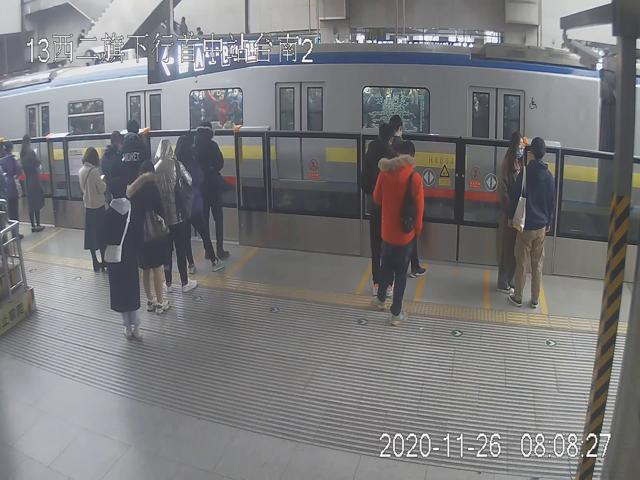person: (373, 140, 423, 321), (513, 138, 556, 313), (102, 176, 145, 341), (154, 138, 197, 294), (128, 160, 169, 315), (362, 122, 397, 297), (496, 132, 530, 290), (195, 122, 231, 259), (78, 145, 110, 272), (20, 135, 46, 232)
